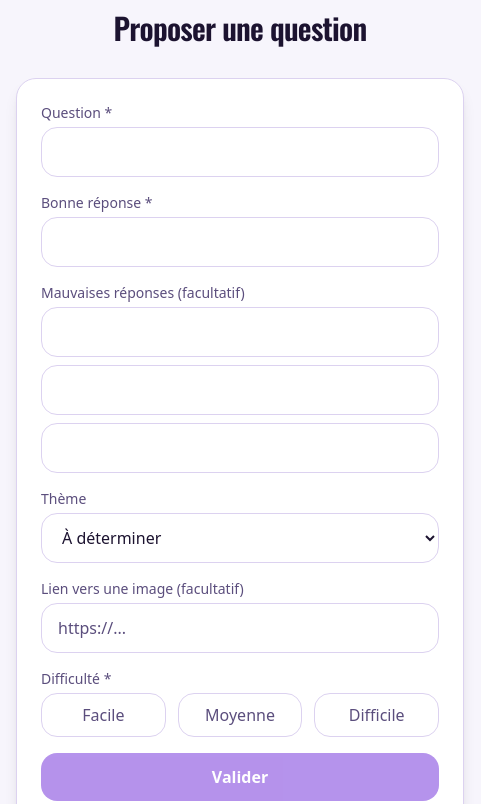
Test case: Propositions › shows an error and keeps the entered values on submission failure
Type "Capitale de la France ?" into the field labelled "Question *" at [240, 152], box [41, 127, 439, 177]
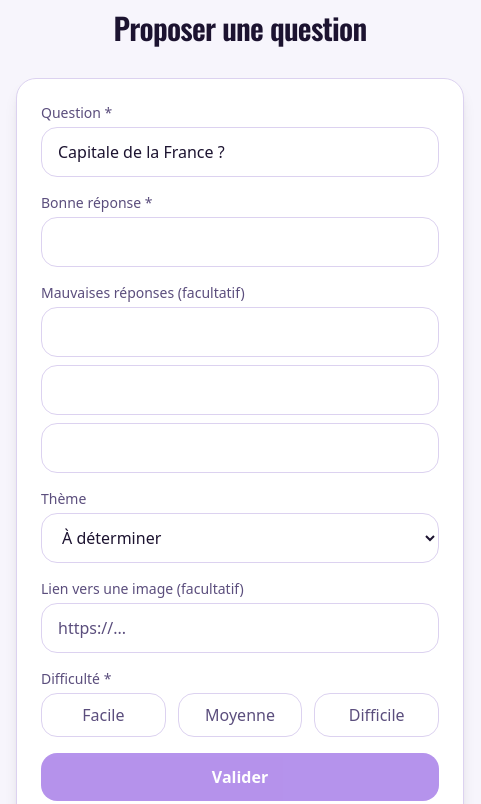
Type "Paris" into the field labelled "Bonne réponse *" at [240, 242], box [41, 217, 439, 267]
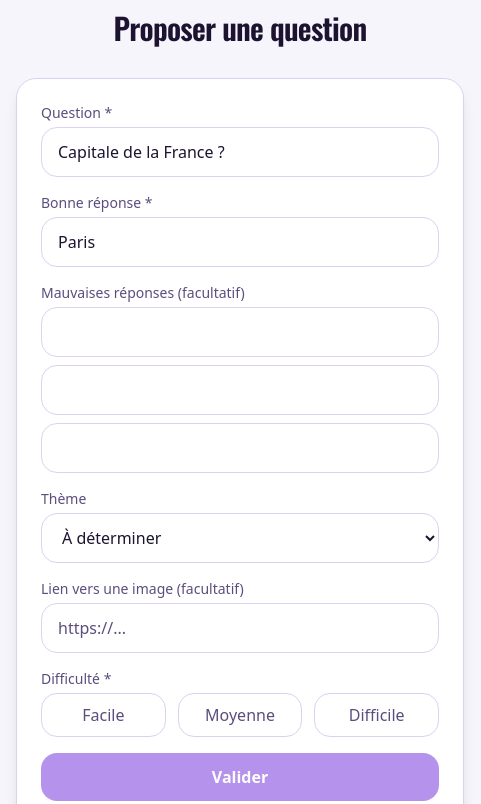
Click the button "Facile" at [103, 715], box [41, 693, 166, 737]
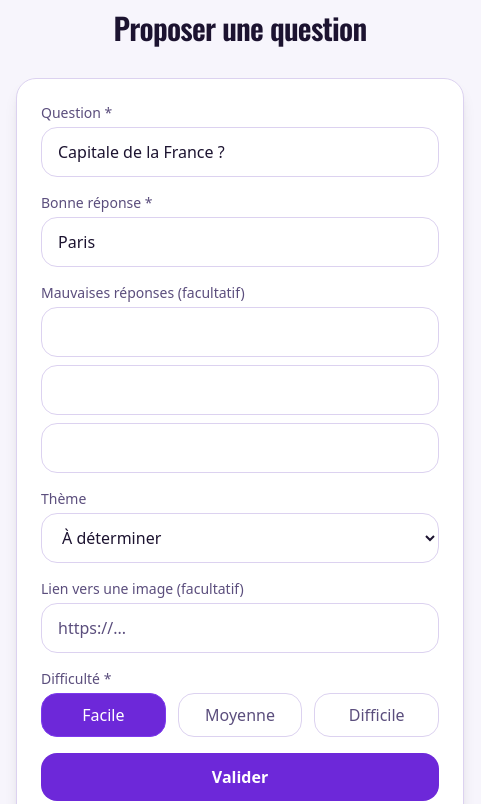
Click the button "Valider" at [240, 777], box [41, 753, 439, 801]
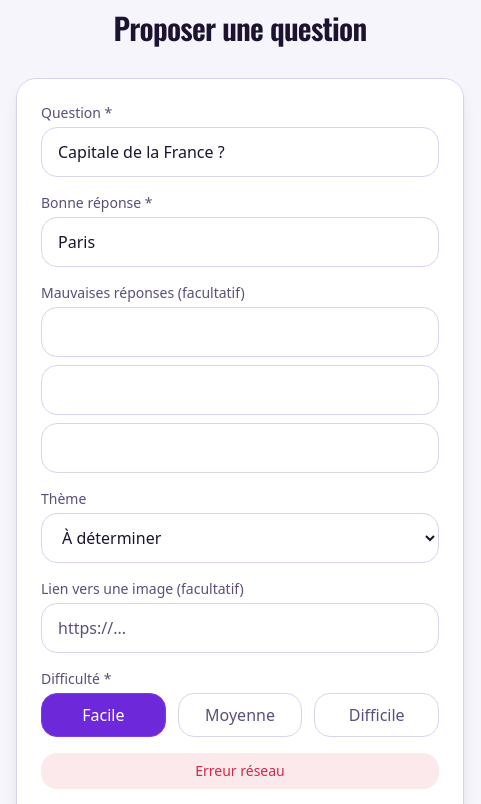
expect the text "Erreur réseau" is shown: met, box [41, 753, 439, 789]
